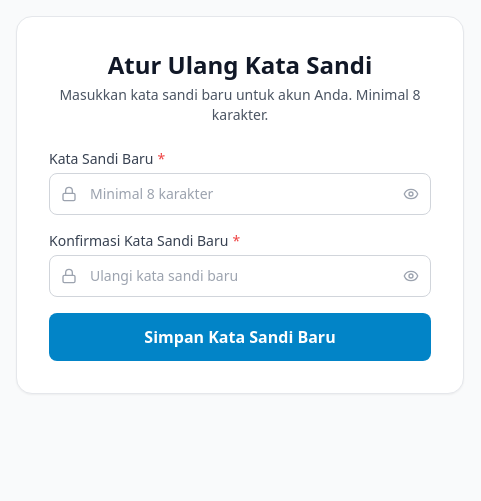
Test: ResetPasswordPage › displays server error on expired or invalid token
The width and height of the screenshot is (481, 501).
In the password field with placeholder "Minimal 8 karakter": (240, 194) [49,173,431,215], type "passwordBaru123"
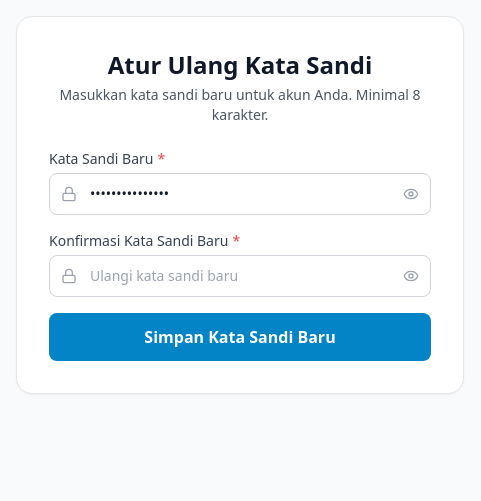
In the password field with placeholder "Ulangi kata sandi baru": (240, 276) [49,255,431,297], type "passwordBaru123"
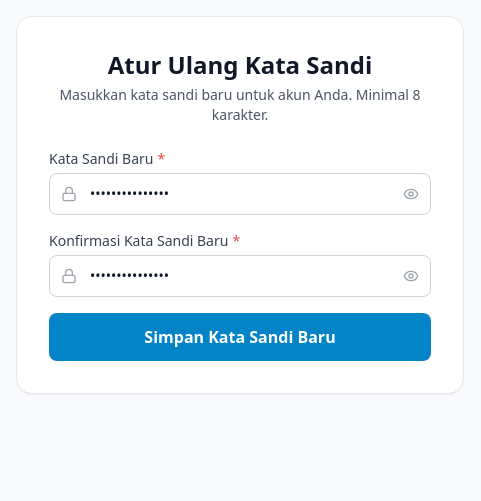
Click the button "Simpan Kata Sandi Baru": (240, 337) [49,313,431,361]
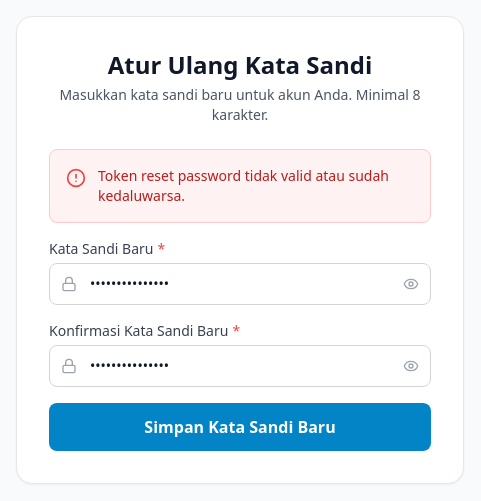
Result: the text "Token reset password tidak valid atau sudah kedaluwarsa." is shown at [98,166,414,206]
